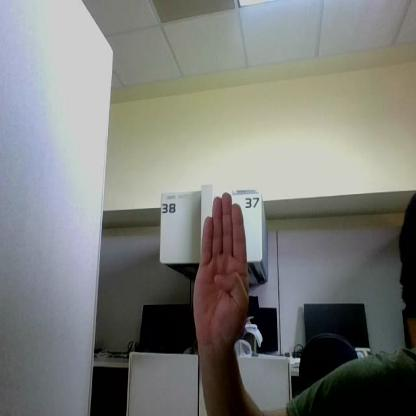B: (194, 192, 249, 342)
